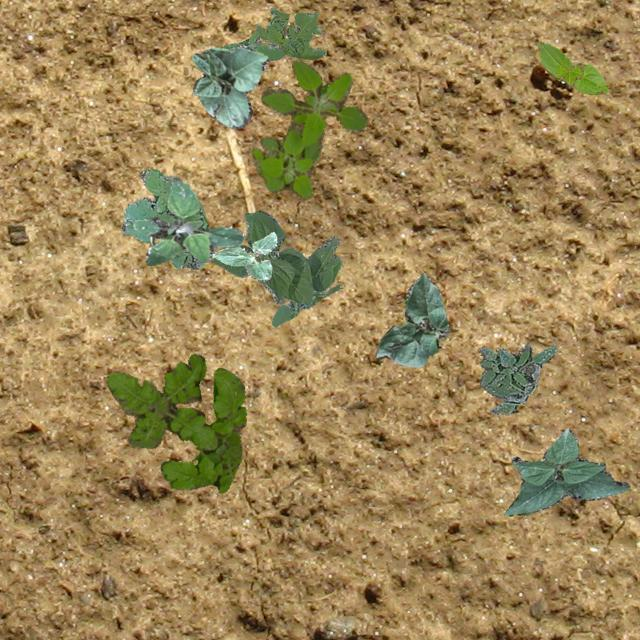crop: (210, 210, 342, 326), (502, 428, 628, 514), (374, 272, 448, 366), (190, 44, 266, 128), (536, 41, 608, 94), (210, 230, 276, 280)
weed: (106, 354, 246, 492), (250, 59, 366, 200), (120, 180, 244, 264), (122, 168, 208, 268), (478, 344, 556, 414), (254, 6, 326, 58), (218, 30, 284, 60)
